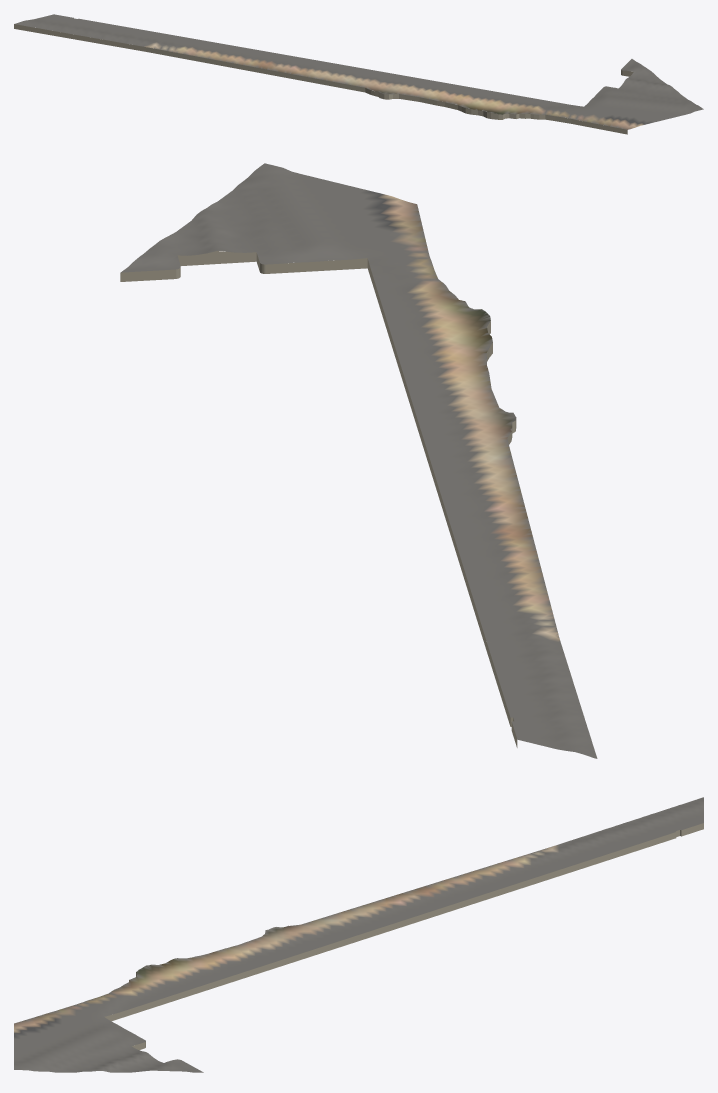
File: terrain.glb
3 views of the same model, one above another, from view 1: azimuth 30°, elevation 25°; view 2: azimuth 150°, elevation 25°; view 3: azimuth 270°, elevation 25° (orthographic). The views are drawn at different scales.
Parts seen in each view (by area): view 1: T_W2_S1_terrain; view 2: T_W2_S1_terrain; view 3: T_W2_S1_terrain.
Part boxes in pixels (x1,y1,x2,y2): T_W2_S1_terrain: (14,14,703,134); T_W2_S1_terrain: (120,163,597,758); T_W2_S1_terrain: (14,797,703,1072).
Size of the model in its own units: 472 by 7 by 500.
